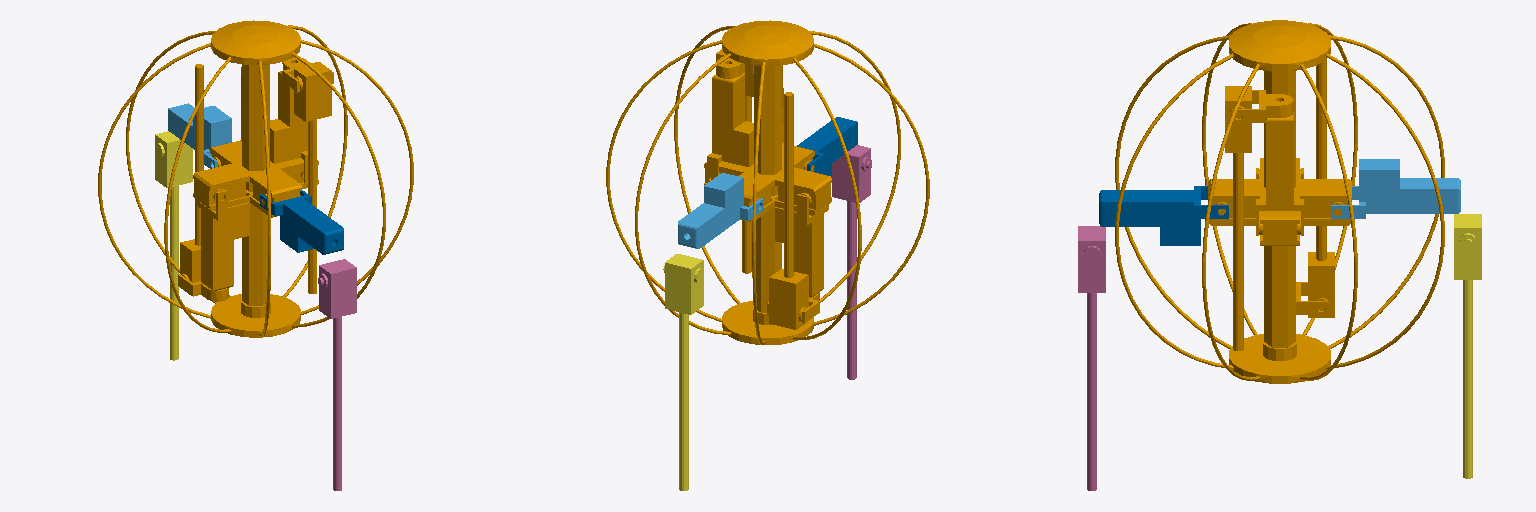
The robot description file, URDF, robot "body_v9":
<?xml version="1.0" encoding="utf-8"?>
<robot name="body_v9">
	<link name="body:1">
		<inertial>
			<mass value="1.13363709118291"/>
			<origin rpy="0 0 0" xyz="2.1108919104935669e-07 3.0571956664531134e-07 0.10949967376834033"/>
			<inertia ixx="0.005259752801374446" ixy="8.95570289671097e-09" ixz="1.0441444939200247e-08" iyy="0.005259777340502174" iyz="-2.3162181842050416e-08" izz="0.0009353740281563095"/>
		</inertial>
		<collision name="body:1_collision">
			<origin rpy="0.0 -0.0 0.0" xyz="0.0 0.0 0.0"/>
			<geometry>
				<mesh filename="package://qross2/meshes/body.stl" scale="1.0 1.0 1.0"/>
			</geometry>
		</collision>
		<visual name="body:1_visual">
			<origin rpy="0.0 -0.0 0.0" xyz="0.0 0.0 0.0"/>
			<geometry>
				<mesh filename="package://qross2/meshes/body.stl" scale="1.0 1.0 1.0"/>
			</geometry>
		</visual>
	</link>
	<link name="link1_v2:1">
		<inertial>
			<mass value="0.14449992489534952"/>
			<origin rpy="0 0 0" xyz="-0.0073905711334268515 0.012000000000004554 0.03430221861479277"/>
			<inertia ixx="4.6881264542254185e-05" ixy="-2.2286396862760072e-18" ixz="-4.657199484334562e-06" iyy="5.127513775986756e-05" iyz="1.4288724451110858e-17" izz="1.2789592727918109e-05"/>
		</inertial>
		<collision name="link1_v2:1_collision">
			<origin rpy="0.0 -0.0 0.0" xyz="-0.03350000000000007 0.011999999999999924 -0.10949999999999999"/>
			<geometry>
				<mesh filename="package://qross2/meshes/link1_v2.stl" scale="1.0 1.0 1.0"/>
			</geometry>
		</collision>
		<visual name="link1_v2:1_visual">
			<origin rpy="0.0 -0.0 0.0" xyz="-0.03350000000000007 0.011999999999999924 -0.10949999999999999"/>
			<geometry>
				<mesh filename="package://qross2/meshes/link1_v2.stl" scale="1.0 1.0 1.0"/>
			</geometry>
		</visual>
	</link>
	<link name="joint2_v1:1">
		<inertial>
			<mass value="0.024005026162397972"/>
			<origin rpy="0 0 0" xyz="0.006225488817151379 3.33066907387547e-17 0.00399999999999992"/>
			<inertia ixx="1.4616423657667354e-06" ixy="-1.8744524965939193e-20" ixz="-2.2204460492503132e-20" iyy="1.5650285534515973e-06" iyz="3.8379509051239095e-21" izz="2.765878738027183e-06"/>
		</inertial>
		<collision name="joint2_v1:1_collision">
			<origin rpy="1.5707963267948972 1.6429081496223807e-16 -3.141592653589793" xyz="0.027999999999999994 -0.013999999999999974 0.007999999999999924"/>
			<geometry>
				<mesh filename="package://qross2/meshes/joint2_v1.stl" scale="1.0 1.0 1.0"/>
			</geometry>
		</collision>
		<visual name="joint2_v1:1_visual">
			<origin rpy="1.5707963267948972 1.6429081496223807e-16 -3.141592653589793" xyz="0.027999999999999994 -0.013999999999999974 0.007999999999999924"/>
			<geometry>
				<mesh filename="package://qross2/meshes/joint2_v1.stl" scale="1.0 1.0 1.0"/>
			</geometry>
		</visual>
	</link>
	<link name="link2_v2:1">
		<inertial>
			<mass value="0.11671274062583038"/>
			<origin rpy="0 0 0" xyz="9.71445146547012e-17 -0.013965007500927462 -0.02882768096563801"/>
			<inertia ixx="0.0001996296678326239" ixy="1.0447372134070321e-19" ixz="0.0" iyy="0.00019827410803720228" iyz="-1.1773427883341944e-07" izz="5.124761362867991e-06"/>
		</inertial>
		<collision name="link2_v2:1_collision">
			<origin rpy="0.0 -0.0 0.0" xyz="-0.05350000000000006 -0.014000000000000146 -0.18450000000000025"/>
			<geometry>
				<mesh filename="package://qross2/meshes/link2_v2.stl" scale="1.0 1.0 1.0"/>
			</geometry>
		</collision>
		<visual name="link2_v2:1_visual">
			<origin rpy="0.0 -0.0 0.0" xyz="-0.05350000000000006 -0.014000000000000146 -0.18450000000000025"/>
			<geometry>
				<mesh filename="package://qross2/meshes/link2_v2.stl" scale="1.0 1.0 1.0"/>
			</geometry>
		</visual>
	</link>
	<link name="link1_v2_(1):1">
		<inertial>
			<mass value="0.14449992489534952"/>
			<origin rpy="0 0 0" xyz="0.007390571133426855 -0.011999999999995471 -0.03430221861479274"/>
			<inertia ixx="4.6881264542254185e-05" ixy="2.220171230416383e-18" ixz="-4.657199484334429e-06" iyy="5.127513775986792e-05" iyz="-1.4298056163309087e-17" izz="1.2789592727918109e-05"/>
		</inertial>
		<collision name="link1_v2_(1):1_collision">
			<origin rpy="0.0 -0.0 0.0" xyz="0.033499999999999926 -0.011999999999999985 -0.10949999999999999"/>
			<geometry>
				<mesh filename="package://qross2/meshes/link1_v2_(1).stl" scale="1.0 1.0 1.0"/>
			</geometry>
		</collision>
		<visual name="link1_v2_(1):1_visual">
			<origin rpy="0.0 -0.0 0.0" xyz="0.033499999999999926 -0.011999999999999985 -0.10949999999999999"/>
			<geometry>
				<mesh filename="package://qross2/meshes/link1_v2_(1).stl" scale="1.0 1.0 1.0"/>
			</geometry>
		</visual>
	</link>
	<link name="joint2_v1_(1):1">
		<inertial>
			<mass value="0.024005026162397972"/>
			<origin rpy="0 0 0" xyz="-0.006225488817151393 -2.2204460492503132e-17 -0.00399999999999999"/>
			<inertia ixx="1.4616423657668464e-06" ixy="-1.8814226011790737e-20" ixz="0.0" iyy="1.5650285534516418e-06" iyz="-3.818541154509105e-21" izz="2.7658787380271942e-06"/>
		</inertial>
		<collision name="joint2_v1_(1):1_collision">
			<origin rpy="1.5707963267948972 -5.326851249972221e-17 -1.4548272198926093e-16" xyz="-0.028 0.014000000000000009 1.3877787807814457e-17"/>
			<geometry>
				<mesh filename="package://qross2/meshes/joint2_v1_(1).stl" scale="1.0 1.0 1.0"/>
			</geometry>
		</collision>
		<visual name="joint2_v1_(1):1_visual">
			<origin rpy="1.5707963267948972 -5.326851249972221e-17 -1.4548272198926093e-16" xyz="-0.028 0.014000000000000009 1.3877787807814457e-17"/>
			<geometry>
				<mesh filename="package://qross2/meshes/joint2_v1_(1).stl" scale="1.0 1.0 1.0"/>
			</geometry>
		</visual>
	</link>
	<link name="link2_v2_(1):1">
		<inertial>
			<mass value="0.014589092578228798"/>
			<origin rpy="0 0 0" xyz="8.326672684688674e-17 0.01396500750092741 0.028827680965638022"/>
			<inertia ixx="2.495370847907802e-05" ixy="-1.3395317841058407e-20" ixz="0.0" iyy="2.4784263504650305e-05" iyz="-1.471678485413525e-08" izz="6.405951703584989e-07"/>
		</inertial>
		<collision name="link2_v2_(1):1_collision">
			<origin rpy="0.0 -0.0 0.0" xyz="0.053499999999999964 0.014000000000000021 -0.0345"/>
			<geometry>
				<mesh filename="package://qross2/meshes/link2_v2_(1).stl" scale="1.0 1.0 1.0"/>
			</geometry>
		</collision>
		<visual name="link2_v2_(1):1_visual">
			<origin rpy="0.0 -0.0 0.0" xyz="0.053499999999999964 0.014000000000000021 -0.0345"/>
			<geometry>
				<mesh filename="package://qross2/meshes/link2_v2_(1).stl" scale="1.0 1.0 1.0"/>
			</geometry>
		</visual>
	</link>

  	<gazebo reference="body:1">
		<selfCollide>true</selfCollide>
    	<material>Gazebo/Red</material>
  	</gazebo>
	<gazebo reference="link1_v2:1">
		<selfCollide>true</selfCollide>
    	<material>Gazebo/Blue</material>
  	</gazebo>
	<gazebo reference="joint2_v1:1">
		<selfCollide>true</selfCollide>
    	<material>Gazebo/Red</material>
  	</gazebo>
	<gazebo reference="link2_v2:1">
		<selfCollide>true</selfCollide>
    	<material>Gazebo/Blue</material>
  	</gazebo>
	<gazebo reference="link1_v2_(1):1">
		<selfCollide>true</selfCollide>
    	<material>Gazebo/Blue</material>
  	</gazebo>
	<gazebo reference="joint2_v1_(1):1">
		<selfCollide>true</selfCollide>
    	<material>Gazebo/Red</material>
  	</gazebo>
	<gazebo reference="link2_v2_(1):1">
		<selfCollide>true</selfCollide>
    	<material>Gazebo/Blue</material>
  	</gazebo>

	<joint name="rev0" type="continuous">
		<parent link="body:1"/>
		<child link="link1_v2:1"/>
		<origin rpy="0 0 0" xyz="0.03350000000000007 -0.011999999999999924 0.10949999999999999"/>
		<axis xyz="-7.04903507698512e-17 1.0 8.84733008160923e-32"/>
		<dynamics damping="0.01"/>
	</joint>
  	<transmission name="rev0_trans">
    	<type>transmission_interface/SimpleTransmission</type>
    	<joint name="rev0">
    	  	<hardwareInterface>hardware_interface/EffortJointInterface</hardwareInterface>
    	</joint>
    	<actuator name="rev0_motor">
    	   	<hardwareInterface>hardware_interface/EffortJointInterface</hardwareInterface>
    	   	<mechanismReduction>1</mechanismReduction>
    	</actuator>
  	</transmission>

	<joint name="rev1" type="continuous">
		<parent link="link1_v2:1"/>
		<child link="joint2_v1:1"/>
		<origin rpy="0 0 0" xyz="-0.003999999999999993 0.01200000000000009 0.07100000000000006"/>
		<axis xyz="5.326851249972236e-17 -6.590670774971049e-16 -1.0"/>
		<dynamics damping="0.01"/>
	</joint>
  	<transmission name="rev1_trans">
    	<type>transmission_interface/SimpleTransmission</type>
    	<joint name="rev1">
    	  	<hardwareInterface>hardware_interface/EffortJointInterface</hardwareInterface>
    	</joint>
    	<actuator name="rev1_motor">
    	   	<hardwareInterface>hardware_interface/EffortJointInterface</hardwareInterface>
    	   	<mechanismReduction>1</mechanismReduction>
    	</actuator>
  	</transmission>

	<joint name="rev2" type="continuous">
		<parent link="joint2_v1:1"/>
		<child link="link2_v2:1"/>
		<origin rpy="0 0 0" xyz="0.023999999999999983 0.01399999999999998 0.004000000000000198"/>
		<axis xyz="2.86463423528964e-16 -0.9999999999999991 6.590670774971043e-16"/>
		<dynamics damping="0.01"/>
	</joint>
  	<transmission name="rev2_trans">
    	<type>transmission_interface/SimpleTransmission</type>
    	<joint name="rev2">
    	  	<hardwareInterface>hardware_interface/EffortJointInterface</hardwareInterface>
    	</joint>
    	<actuator name="rev2_motor">
    	   	<hardwareInterface>hardware_interface/EffortJointInterface</hardwareInterface>
    	   	<mechanismReduction>1</mechanismReduction>
    	</actuator>
  	</transmission>



	<joint name="rev3" type="continuous">
		<parent link="body:1"/>
		<child link="link1_v2_(1):1"/>
		<origin rpy="0 0 0" xyz="-0.033499999999999926 0.011999999999999985 0.10949999999999999"/>
		<axis xyz="7.04903507698521e-17 -1.0 1.72948509006036e-31"/>
		<dynamics damping="0.01"/>
	</joint>
  	<transmission name="rev3_trans">
    	<type>transmission_interface/SimpleTransmission</type>
    	<joint name="rev3">
    	  	<hardwareInterface>hardware_interface/EffortJointInterface</hardwareInterface>
    	</joint>
    	<actuator name="rev3_motor">
    	   	<hardwareInterface>hardware_interface/EffortJointInterface</hardwareInterface>
    	   	<mechanismReduction>1</mechanismReduction>
    	</actuator>
  	</transmission>

	<joint name="rev4" type="continuous">
		<parent link="link1_v2_(1):1"/>
		<child link="joint2_v1_(1):1"/>
		<origin rpy="0 0 0" xyz="0.0039999999999999584 -0.012000000000000007 -0.07099999999999998"/>
		<axis xyz="-5.3268512499722306e-17 -6.590670774971049e-16 1.0"/>
		<dynamics damping="0.01"/>
	</joint>
  	<transmission name="rev4_trans">
    	<type>transmission_interface/SimpleTransmission</type>
    	<joint name="rev4">
    	  	<hardwareInterface>hardware_interface/EffortJointInterface</hardwareInterface>
    	</joint>
    	<actuator name="rev4_motor">
    	   	<hardwareInterface>hardware_interface/EffortJointInterface</hardwareInterface>
    	   	<mechanismReduction>1</mechanismReduction>
    	</actuator>
  	</transmission>

	<joint name="rev5" type="continuous">
		<parent link="joint2_v1_(1):1"/>
		<child link="link2_v2_(1):1"/>
		<origin rpy="0 0 0" xyz="-0.023999999999999997 -0.013999999999999999 -0.0040000000000000036"/>
		<axis xyz="1.4548272198926074e-16 1.0 6.590670774971049e-16"/>
		<dynamics damping="0.01"/>
	</joint>
  	<transmission name="rev5_trans">
    	<type>transmission_interface/SimpleTransmission</type>
    	<joint name="rev5">
    	  	<hardwareInterface>hardware_interface/EffortJointInterface</hardwareInterface>
    	</joint>
    	<actuator name="rev5_motor">
    	   	<hardwareInterface>hardware_interface/EffortJointInterface</hardwareInterface>
    	   	<mechanismReduction>1</mechanismReduction>
    	</actuator>
  	</transmission>

  <gazebo>
    <plugin name="gazebo_ros_control" filename="libgazebo_ros_control.so">
      <robotNamespace>/body_v9</robotNamespace>
      <robotSimType>gazebo_ros_control/DefaultRobotHWSim</robotSimType>
      <legacyModeNS>true</legacyModeNS>
    </plugin>
  </gazebo>



</robot>

--- What the picture shows (computed from the rendered views, not written in the file) ---
3 views of the same robot in one strip: view 1: azimuth 30°, elevation 25°; view 2: azimuth 150°, elevation 25°; view 3: azimuth 270°, elevation 25° (orthographic).
Robot: body_v9 — 7 links, 6 joints (6 continuous); root link body:1; default pose: all joints at 0.
Visible links, largest first — view 1: body:1, link2_v2_(1):1, link1_v2_(1):1, link2_v2:1, link1_v2:1; view 2: body:1, link2_v2:1, link1_v2:1, link2_v2_(1):1, link1_v2_(1):1; view 3: body:1, link1_v2_(1):1, link1_v2:1, link2_v2_(1):1, link2_v2:1.
Link boxes in pixels (x1,y1,x2,y2): body:1: (98, 20, 413, 337); link2_v2_(1):1: (318, 259, 356, 490); link1_v2_(1):1: (260, 190, 343, 254); link2_v2:1: (155, 131, 192, 360); link1_v2:1: (168, 103, 231, 168); body:1: (606, 20, 929, 344); link2_v2:1: (663, 254, 703, 490); link1_v2:1: (678, 173, 763, 248); link2_v2_(1):1: (832, 145, 871, 379); link1_v2_(1):1: (797, 117, 857, 177); body:1: (1115, 20, 1444, 383); link1_v2_(1):1: (1099, 186, 1228, 245); link1_v2:1: (1331, 159, 1460, 218); link2_v2_(1):1: (1078, 226, 1105, 490); link2_v2:1: (1454, 214, 1481, 478).
Size in the robot's own frame: 0.1905 by 0.233 by 0.2895 metres.
Meshes: 7 distinct files referenced, 5 mesh visuals loaded (5 binary STL); not drawn: 2 (reference not matched to a file when rendering).